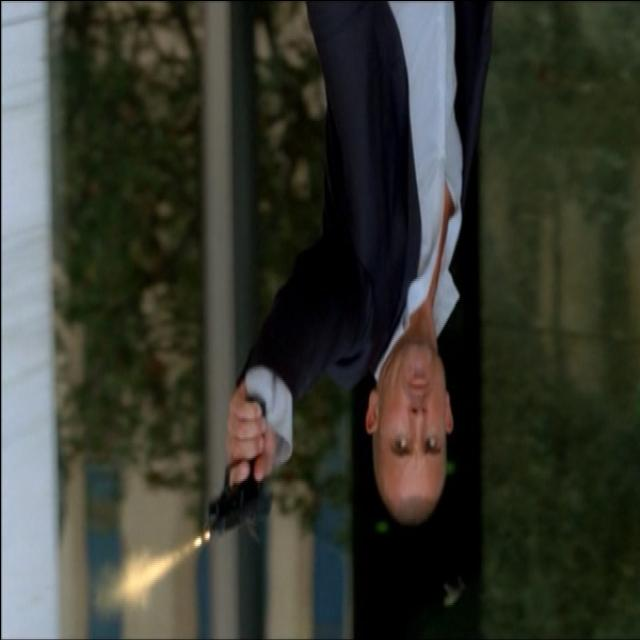weapons: (194, 356, 286, 558)
